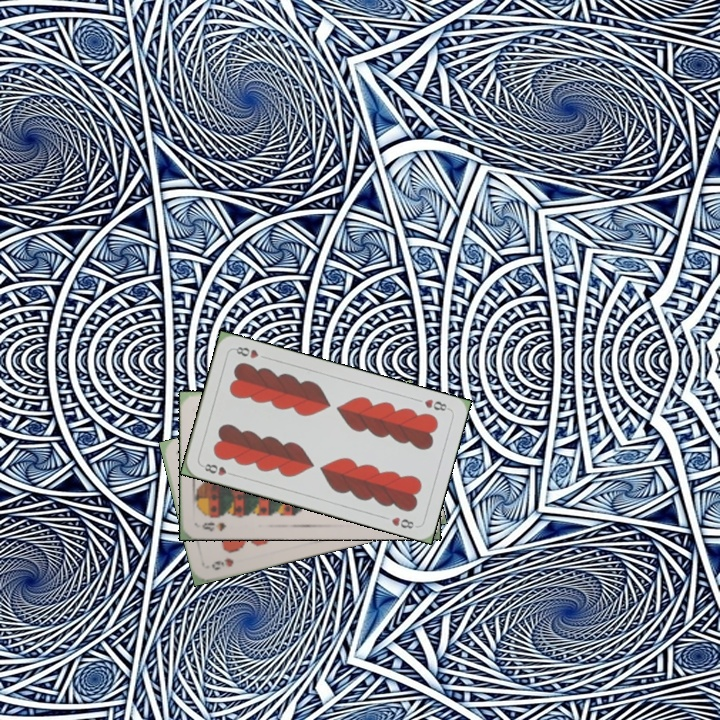H8: (198, 460, 238, 478), (420, 395, 452, 414)
H9: (208, 554, 236, 573)
S8: (198, 519, 229, 534)
